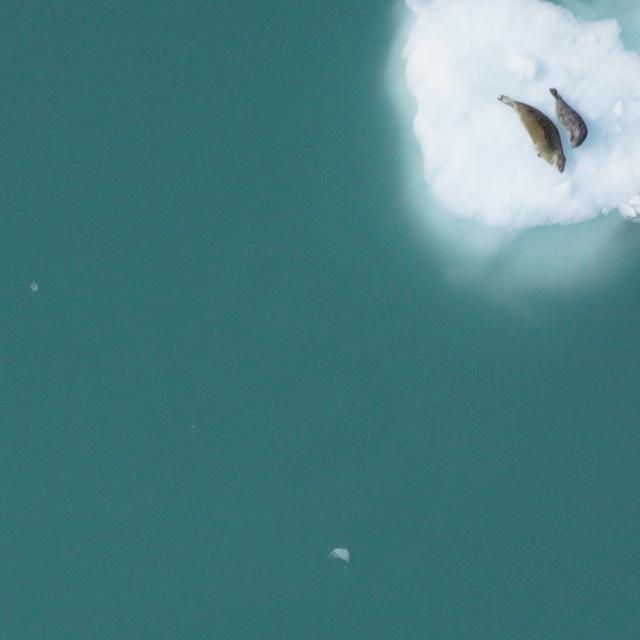seal: (484, 83, 585, 179), (536, 83, 595, 150)
